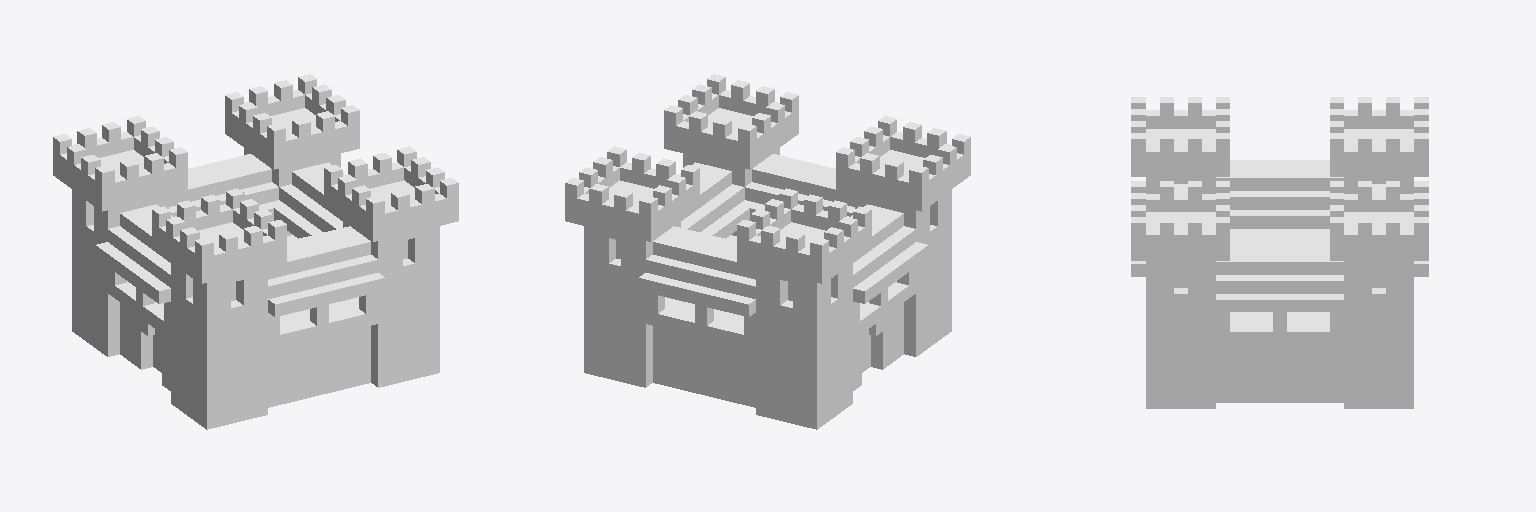
Rendered from MesaCastle.obj.
3 views of the same model, side by side, from view 1: azimuth 30°, elevation 25°; view 2: azimuth 150°, elevation 25°; view 3: azimuth 270°, elevation 25° (orthographic).
Visible parts, largest first — view 1: object 1; view 2: object 1; view 3: object 1.
Part boxes in pixels (x1,y1,x2,y2): object 1: (53,74,458,429); object 1: (565,74,970,429); object 1: (1131,97,1428,408).
Bounding box in the file's own units: 2.1 × 1.5 × 2.1.